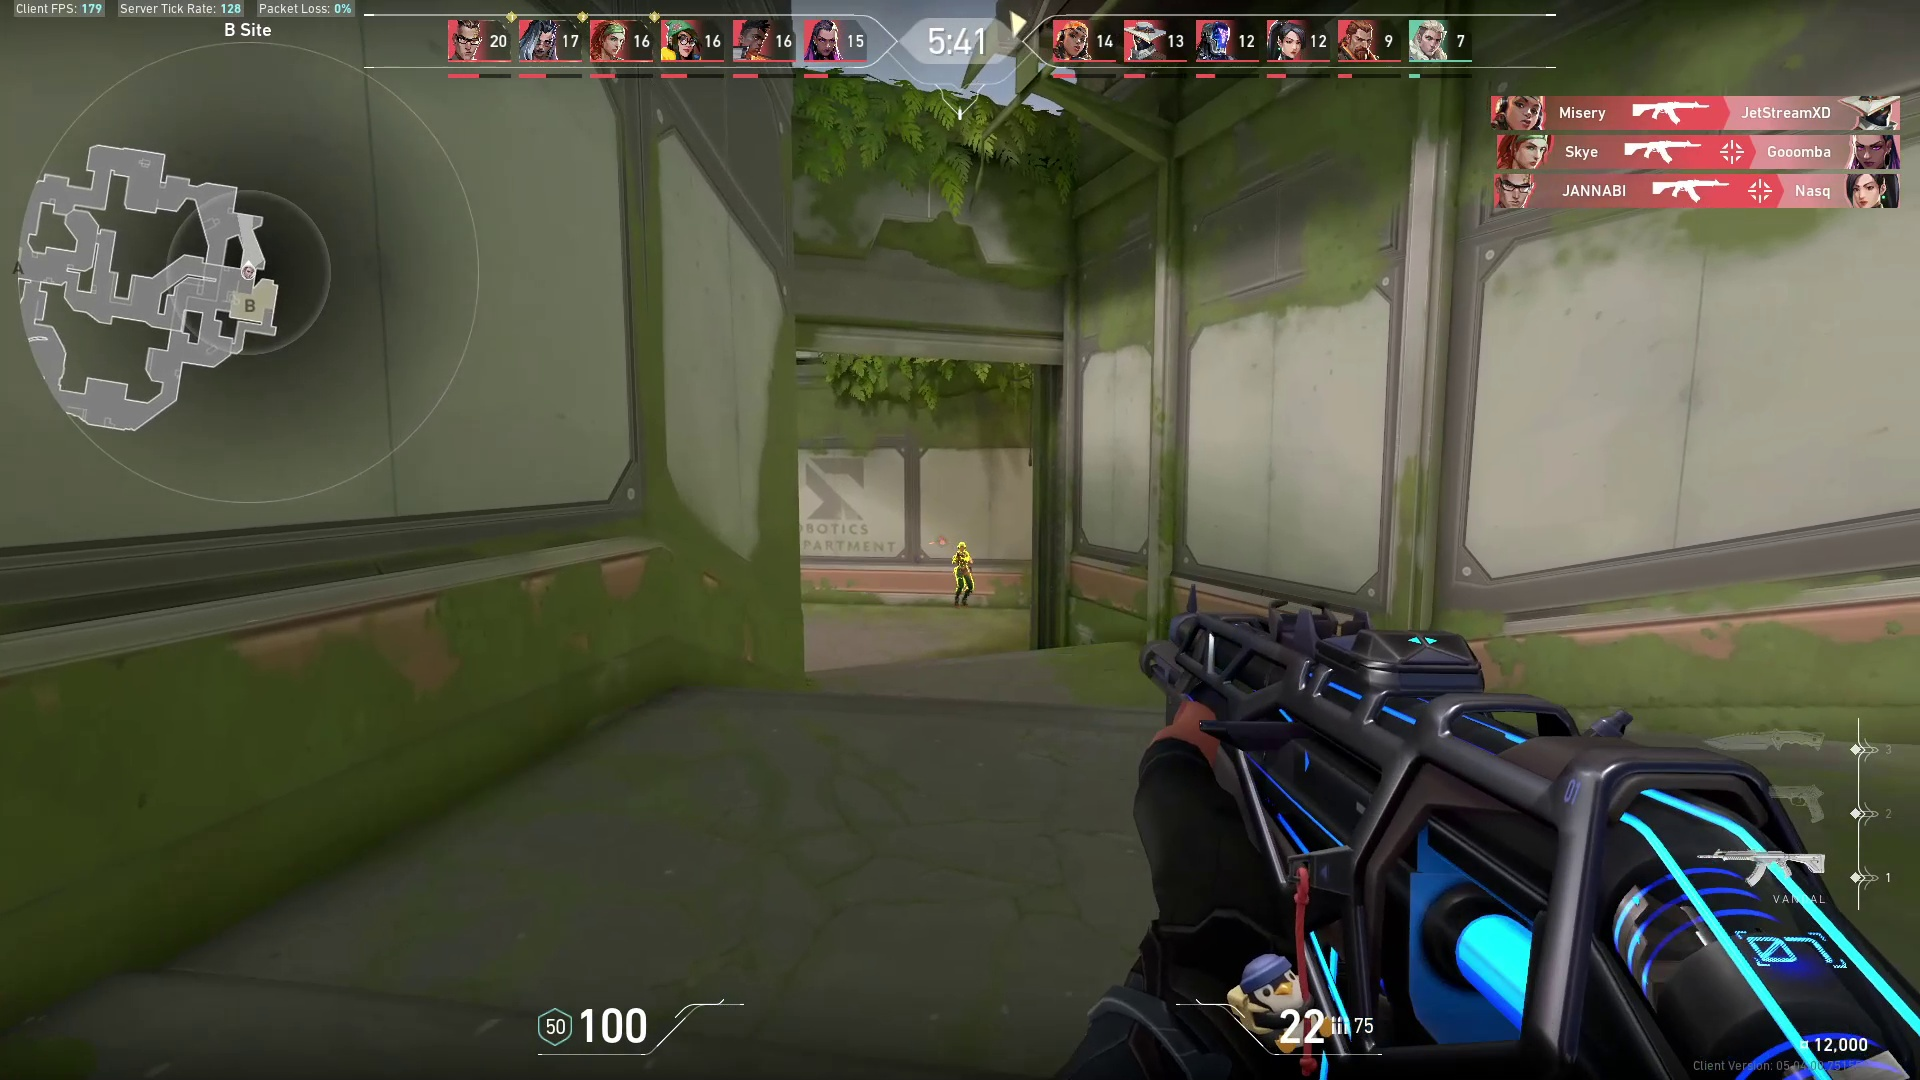enemy_body: (951, 554, 975, 611)
enemy_head: (953, 541, 969, 554)
